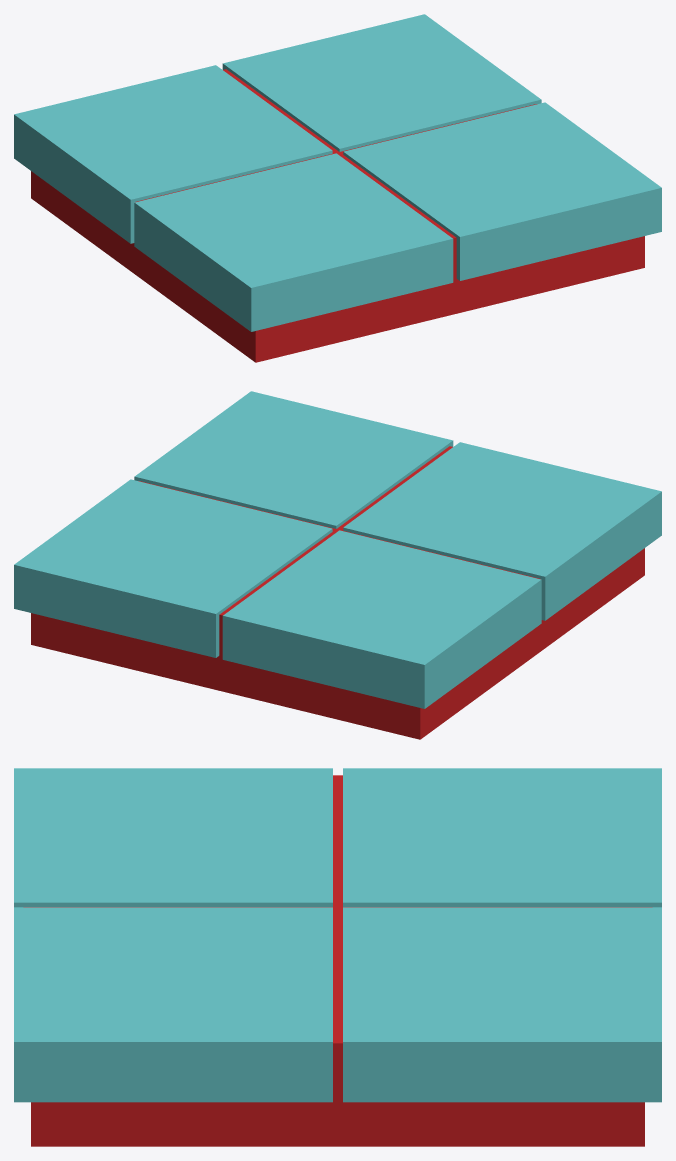
Rendered from MOD_FUR_Coffee_table_01.fbx.
3 renders of one model, top to bottom at view 1: azimuth 30°, elevation 25°; view 2: azimuth 150°, elevation 25°; view 3: azimuth 270°, elevation 25°, orthographic. The views are drawn at different scales.
Parts seen in each view (by area): view 1: HSHP_MOD_Coffee_table; view 2: HSHP_MOD_Coffee_table; view 3: HSHP_MOD_Coffee_table.
Boxes of the visible parts, x1,y1,x2,y2 form: HSHP_MOD_Coffee_table: (14, 14, 661, 362); HSHP_MOD_Coffee_table: (14, 391, 661, 739); HSHP_MOD_Coffee_table: (14, 768, 661, 1146).
Size of the model in its own units: 1.28 by 0.244 by 1.28.
